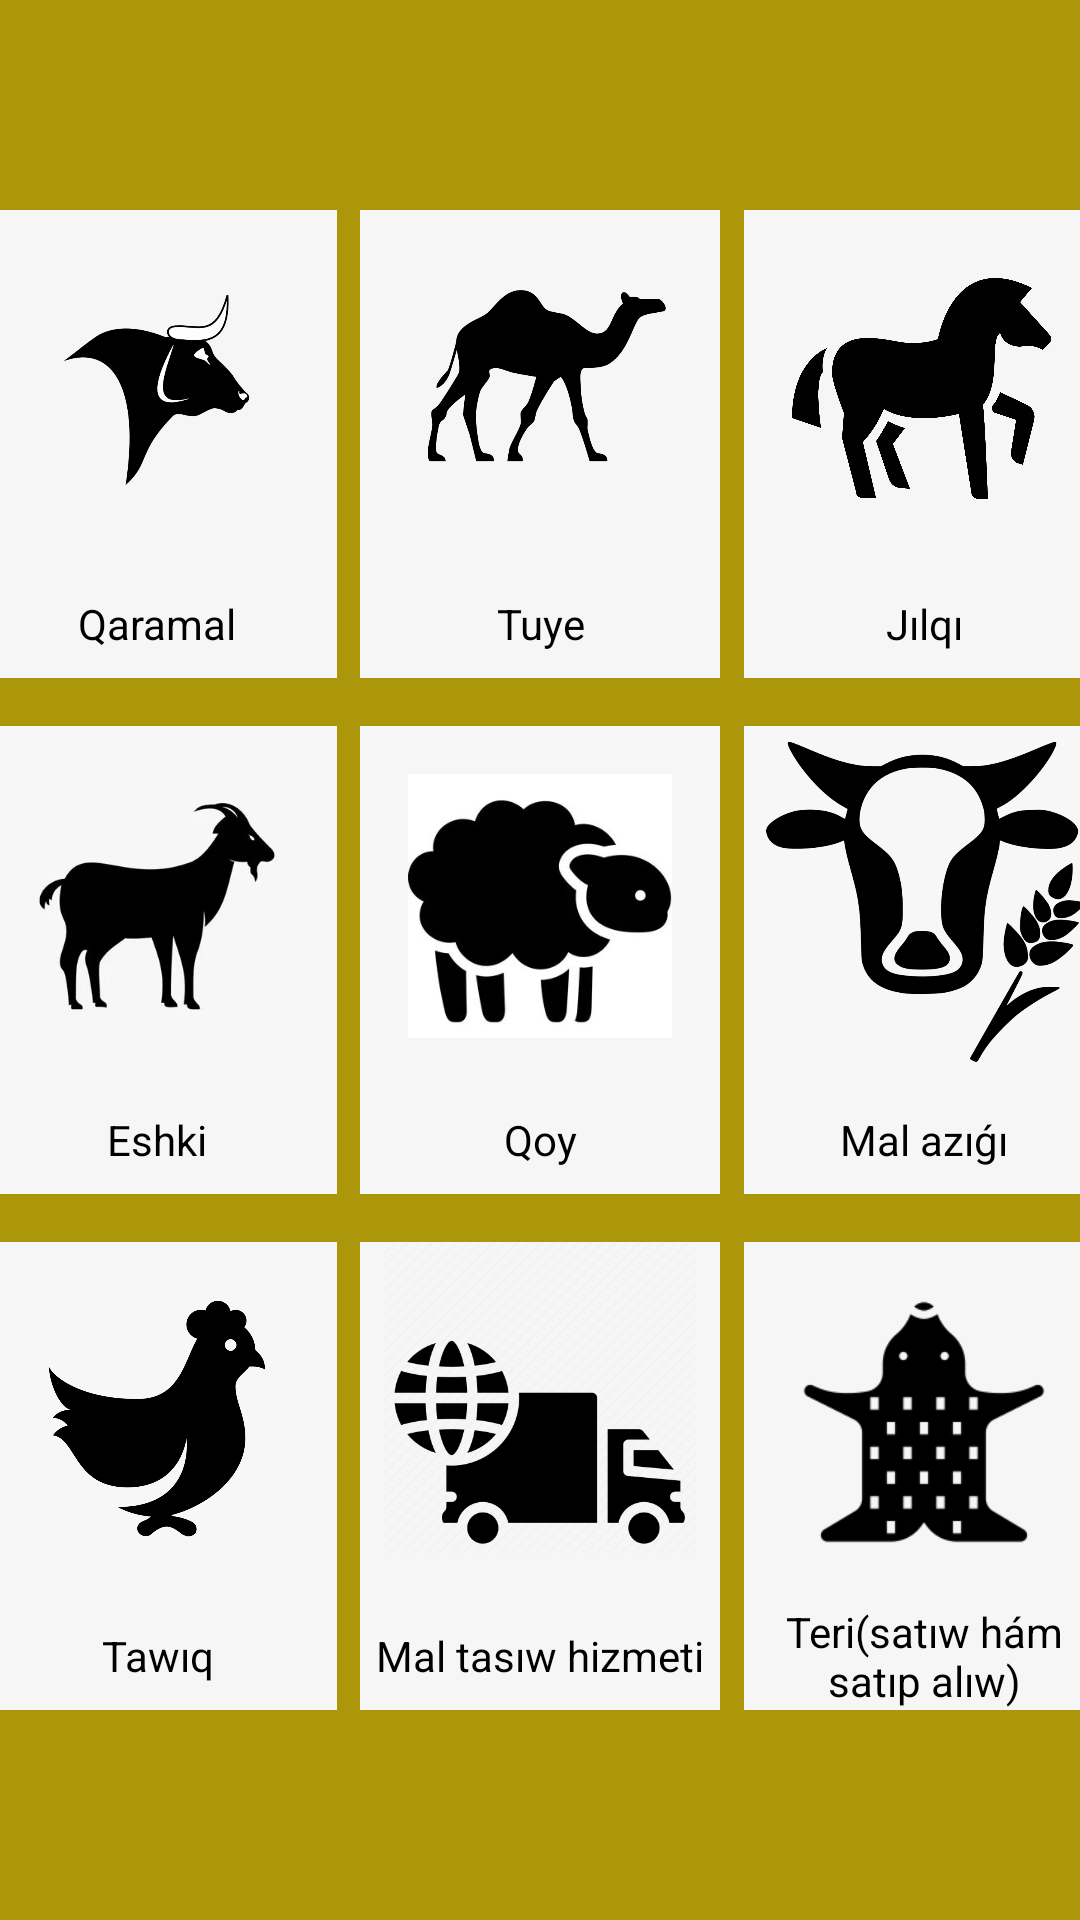

Where to tap for icons on this 1080*1920 app screen, as (x,y):
bull: (156,390)
goat: (157,906)
hen: (157,1419)
horse: (921,388)
